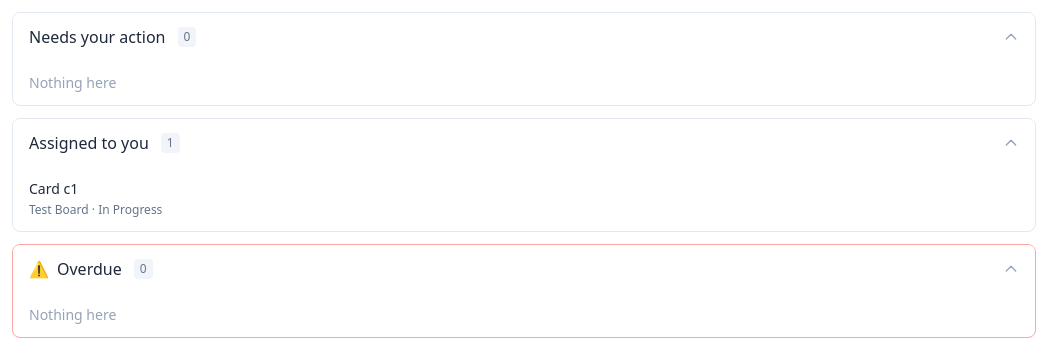
Test: AssignmentWidget › collapses a section when header button is clicked
The width and height of the screenshot is (1048, 355).
Expected: the text "Card c1" is shown, [29,179,78,198]
Click the button "Assigned to you 1". click: x=89, y=143
box: [13,119,1035,167]
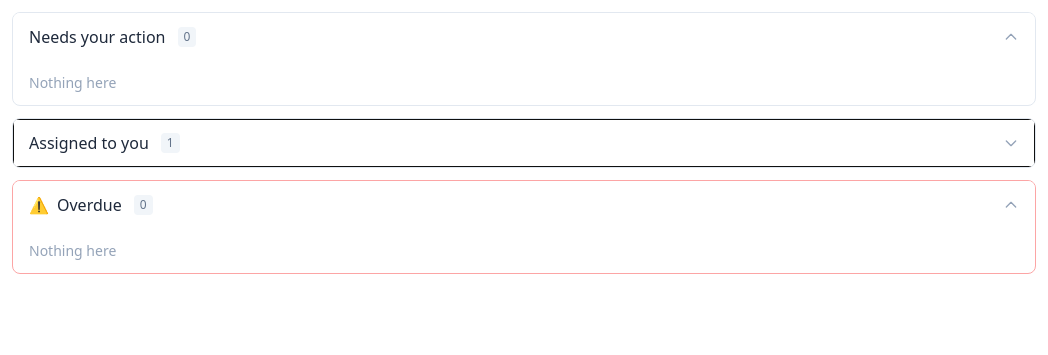
Now the button "Card c1" is gone
